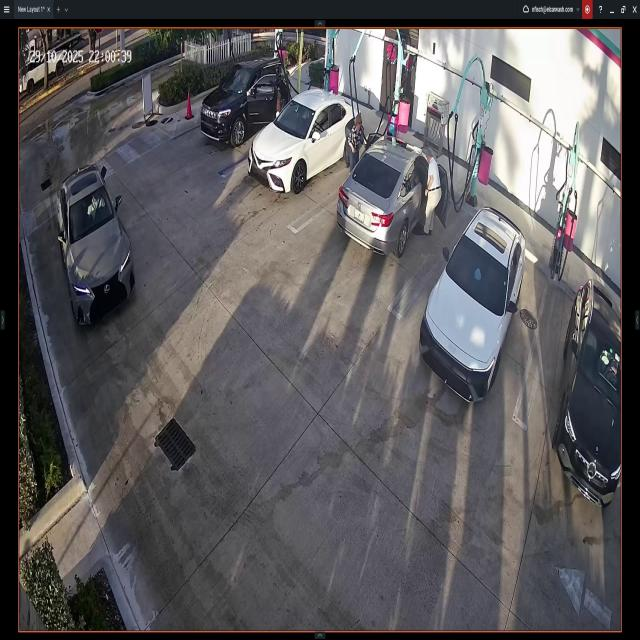Car: (420, 209, 525, 403), (558, 281, 622, 510), (339, 135, 446, 255), (59, 166, 136, 331), (252, 90, 360, 189), (200, 57, 291, 148)
